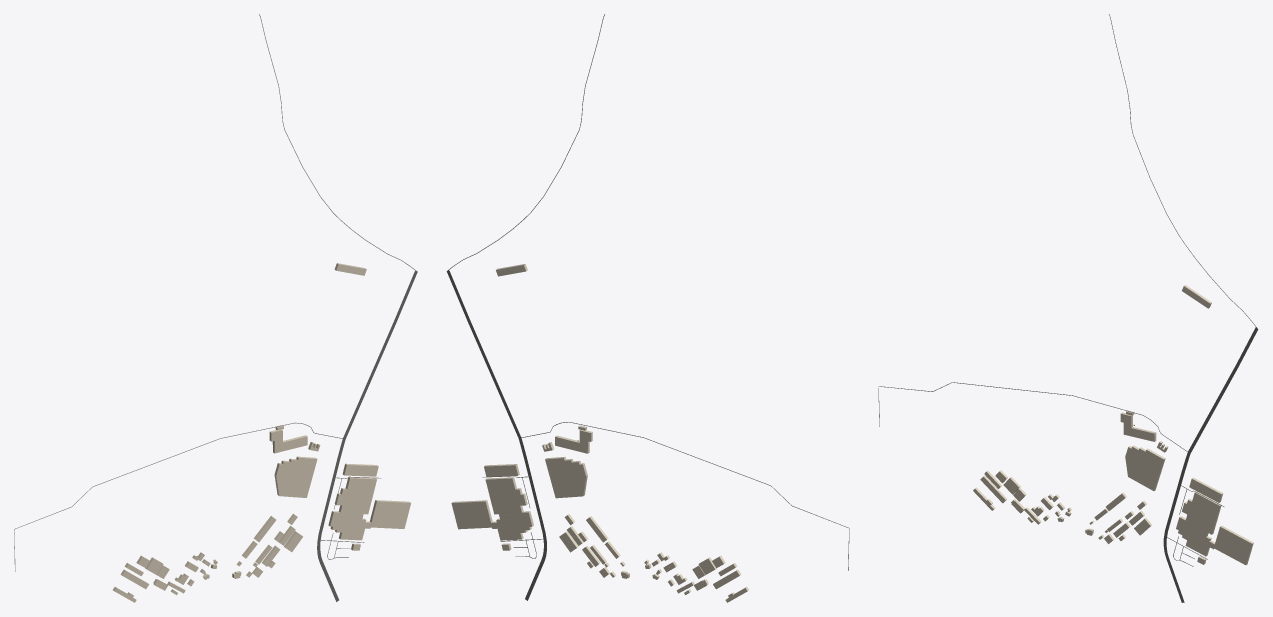
Rendered from historic-palestine-11_31_3525_3253.glb.
3 renders of one model, left to right at view 1: azimuth 30°, elevation 25°; view 2: azimuth 150°, elevation 25°; view 3: azimuth 330°, elevation 25°, orthographic. The views are drawn at different scales.
Visible parts, largest first — view 1: Building_, Building_.005, Road 6724, Building_.002; view 2: Building_, Building_.005, Road 6724, Building_.002; view 3: Building_, Building_.005, Road 6724.
Boxes of the visible parts, left/top/right/bottom form: Building_: left=328, top=477, right=410, bottom=540; Building_.005: left=274, top=456, right=317, bottom=497; Road 6724: left=317, top=271, right=417, bottom=601; Building_.002: left=269, top=429, right=307, bottom=453; Building_: left=451, top=477, right=533, bottom=540; Building_.005: left=545, top=457, right=587, bottom=498; Road 6724: left=446, top=270, right=546, bottom=600; Building_.002: left=555, top=429, right=592, bottom=453; Building_: left=1176, top=491, right=1253, bottom=565; Building_.005: left=1125, top=445, right=1165, bottom=490; Road 6724: left=1163, top=327, right=1258, bottom=602.
Size of the model in its own units: 1015 by 1458 by 8.7.
